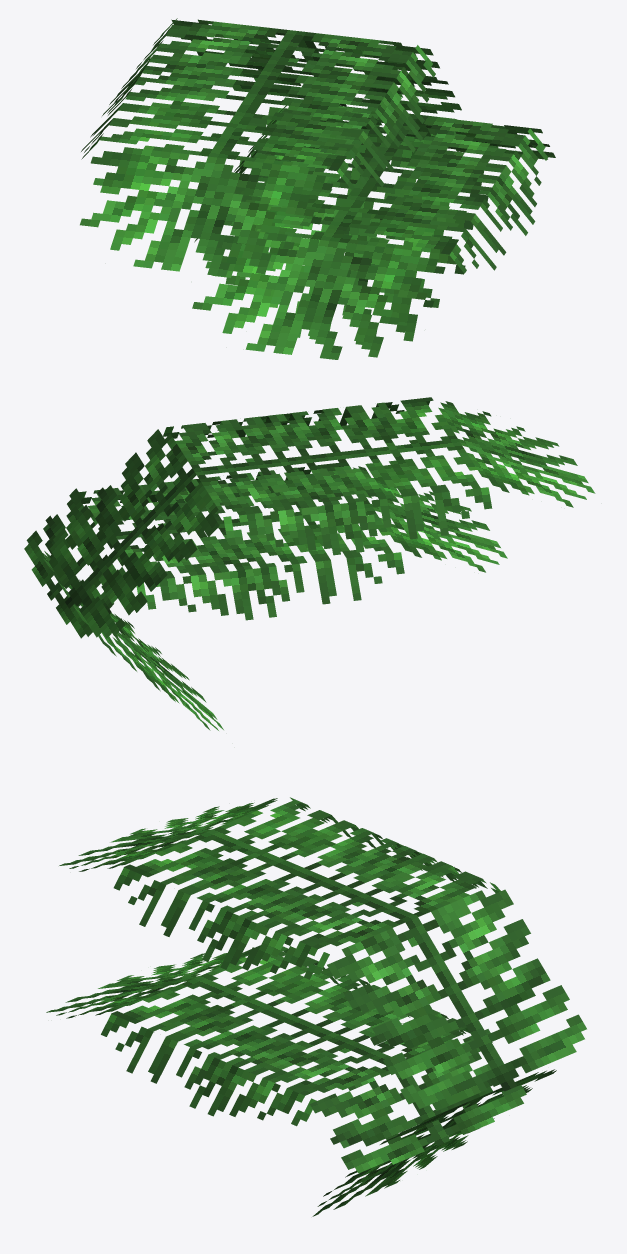
Rendered from palm_diagonal.obj.
3 renders of one model, top to bottom at view 1: azimuth 30°, elevation 25°; view 2: azimuth 150°, elevation 25°; view 3: azimuth 270°, elevation 25°, orthographic. The views are drawn at different scales.
Visible parts, largest first — view 1: cube; view 2: cube; view 3: cube.
Boxes of the visible parts, x1,y1,x2,y2 form: cube: (80, 18, 555, 359); cube: (24, 397, 595, 730); cube: (46, 797, 586, 1216).
Size of the model in its own units: 36 by 16.84 by 33.21.
Materials: 1 (1 with a texture image).
